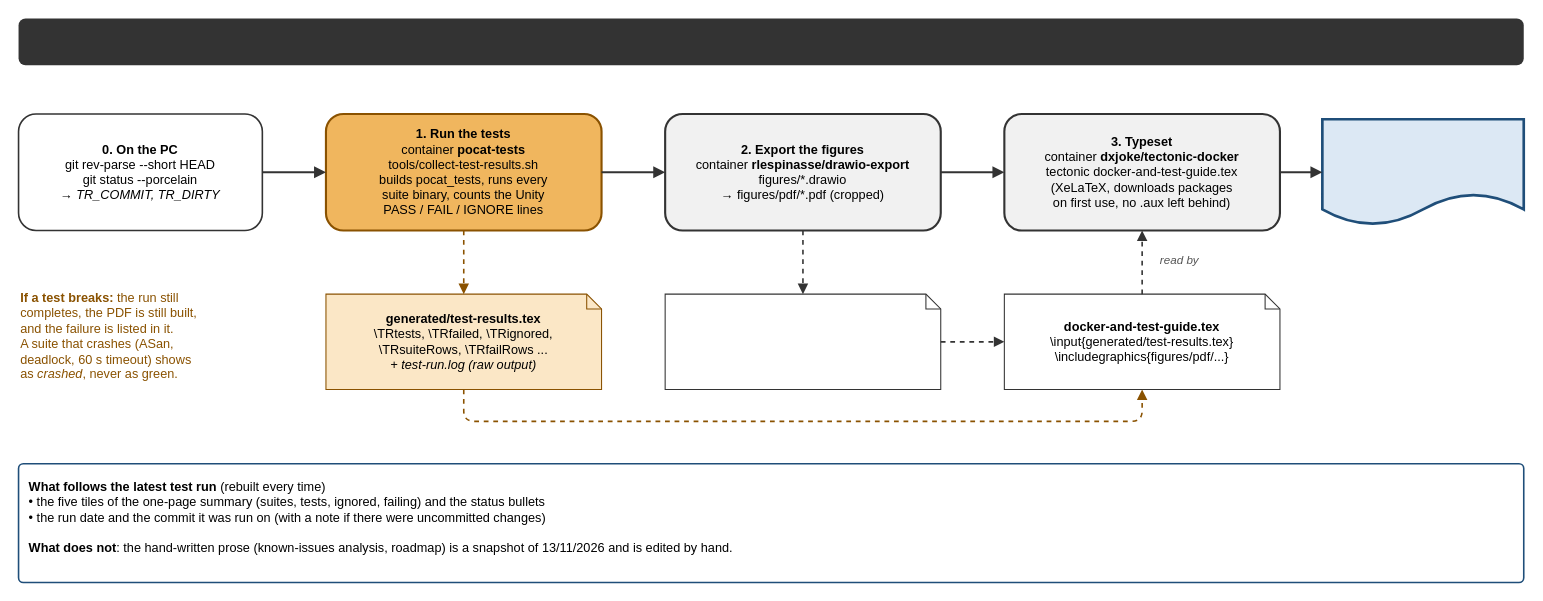
The diagram is 1543 pixels wide and 601 high, and some of its shapes have lost their labels. Here are the shapes that lost their labels. From the top down, the box of each, then its label:
(18, 18, 1523, 65): bash docs/testing/overview/build-docs.sh
(1321, 117, 1525, 226): docker-and-test-guide.pdf
(664, 293, 941, 390): figures/pdf/*.pdf docker-containers, repo-structure, test-layers, docs-pipeline
